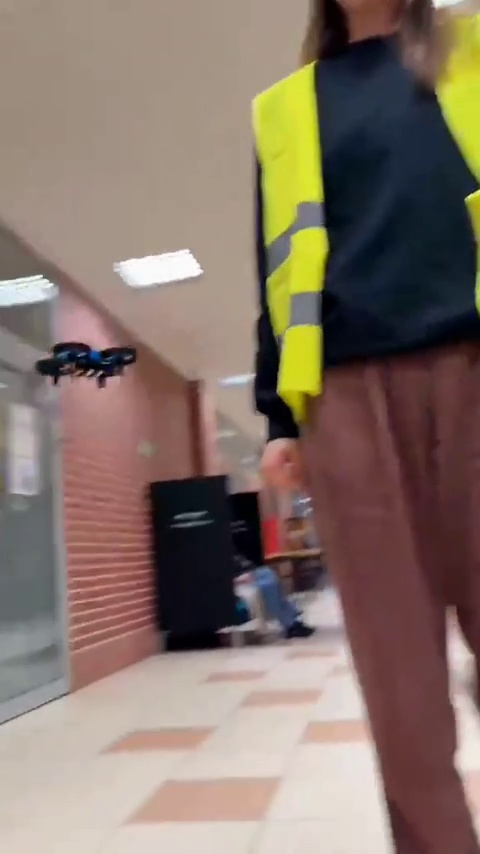drone: (39, 340, 135, 388)
vest: (243, 63, 480, 850)
